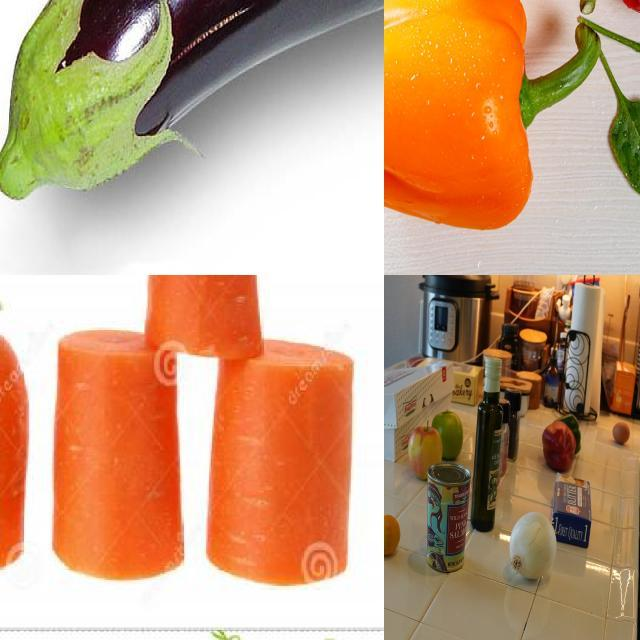bell_pepper: (385, 1, 599, 237), (544, 421, 578, 471), (507, 391, 524, 463), (564, 411, 583, 453)
carrot: (204, 338, 353, 589), (55, 333, 192, 579), (1, 276, 41, 581), (145, 276, 268, 363)
egg: (611, 417, 633, 451)
eggplant: (1, 1, 385, 210)
onion: (509, 510, 560, 586)
